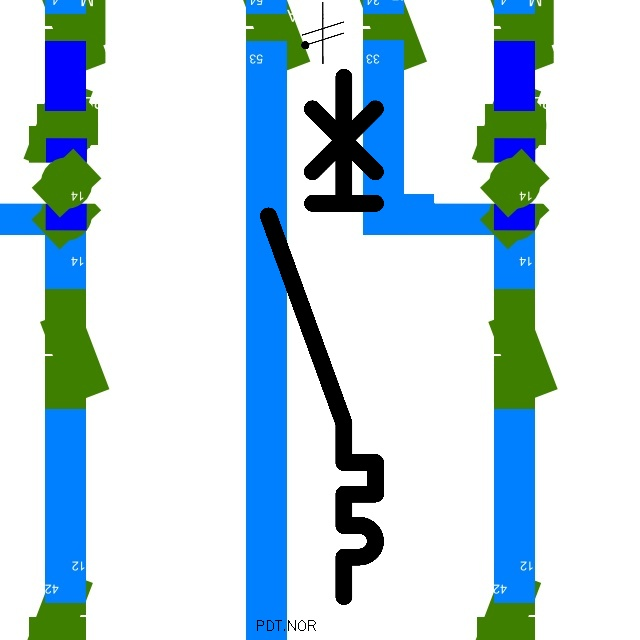interruptor_termomagnetico: (255, 63, 389, 610)
